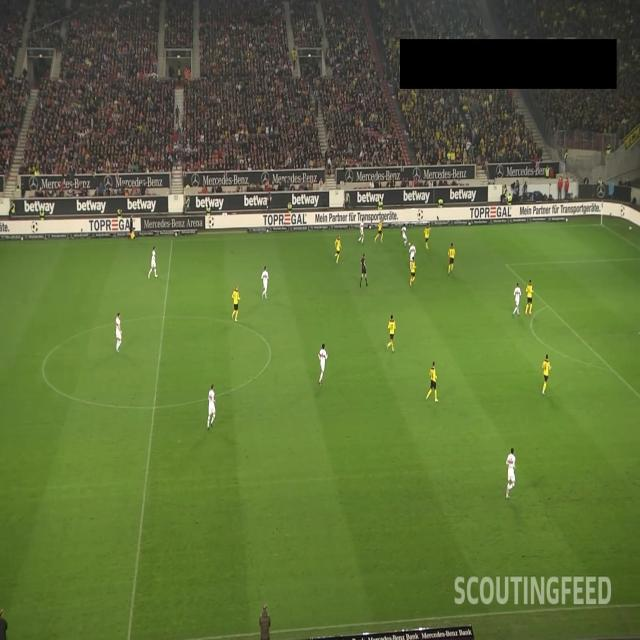ball: (408, 241, 411, 247)
